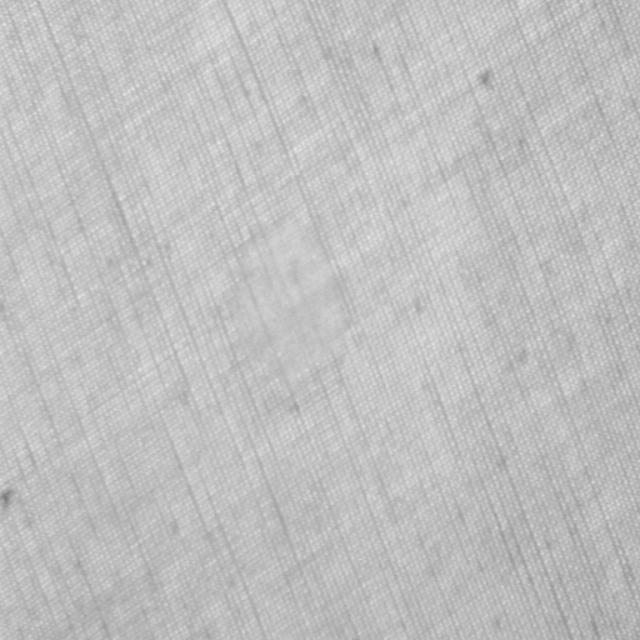oil spot: (223, 211, 355, 380)
